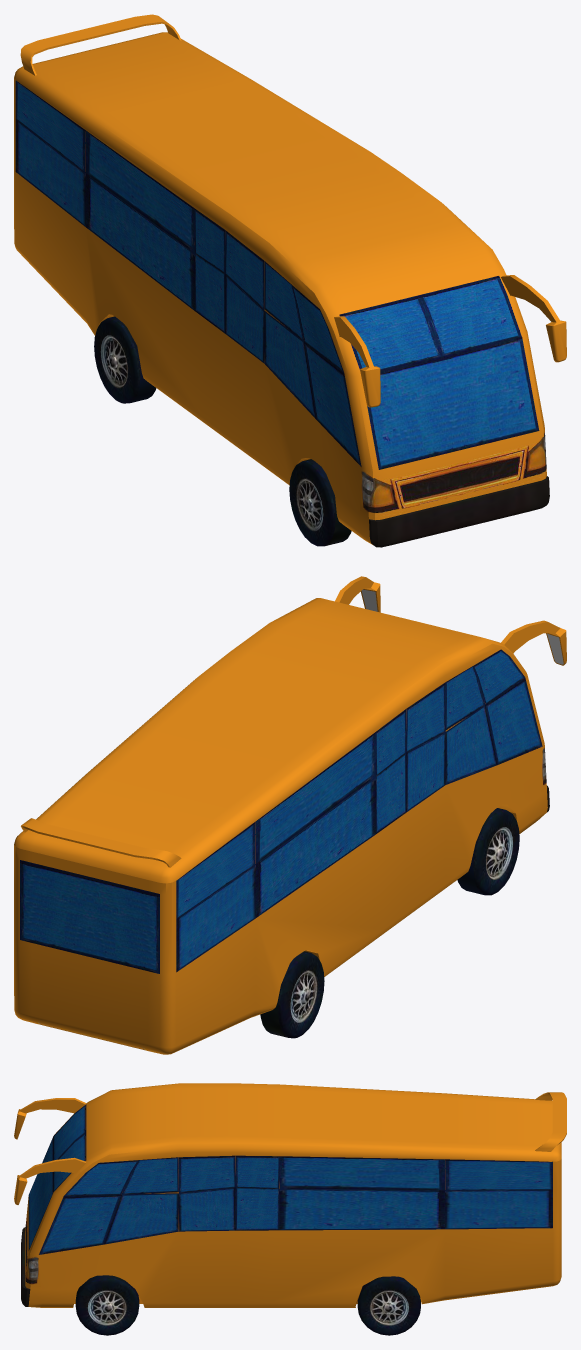
File: Minibus.glb
The picture shows the model from 3 angles, top to bottom: view 1: azimuth 30°, elevation 25°; view 2: azimuth 150°, elevation 25°; view 3: azimuth 270°, elevation 25°; orthographic projection. The views are drawn at different scales.
Visible parts, largest first — view 1: body, tire_front.r, tire_rear.r, side_mirrors, rear_thingy; view 2: body, tire_rear.r, tire_front.r, side_mirrors, rear_thingy; view 3: body, tire_front.l, tire_rear.l, side_mirrors, rear_thingy.
Boxes of the visible parts, <box> form: body: <box>14,32,549,547</box>; tire_front.r: <box>289,459,351,546</box>; tire_rear.r: <box>94,316,156,403</box>; side_mirrors: <box>334,275,566,407</box>; rear_thingy: <box>20,14,181,75</box>; body: <box>14,598,549,1054</box>; tire_rear.r: <box>260,951,324,1038</box>; tire_front.r: <box>457,808,519,895</box>; side_mirrors: <box>335,576,566,665</box>; rear_thingy: <box>21,818,181,867</box>; body: <box>21,1083,561,1307</box>; tire_front.l: <box>75,1275,139,1335</box>; tire_rear.l: <box>357,1276,420,1335</box>; side_mirrors: <box>14,1098,86,1204</box>; rear_thingy: <box>535,1092,566,1151</box>.
Size of the model in its own units: 4.53 by 5.66 by 14.86.
Materials: 2 (1 with a texture image).
